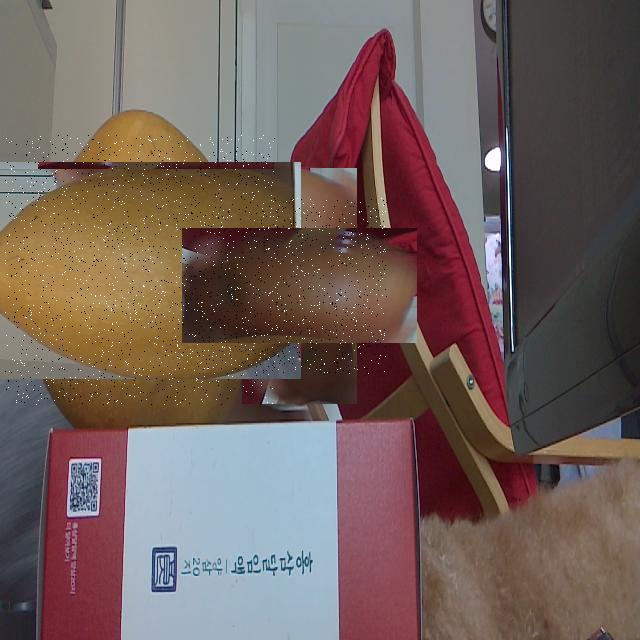apple: (212, 198, 387, 374)
pear: (5, 135, 275, 405)
